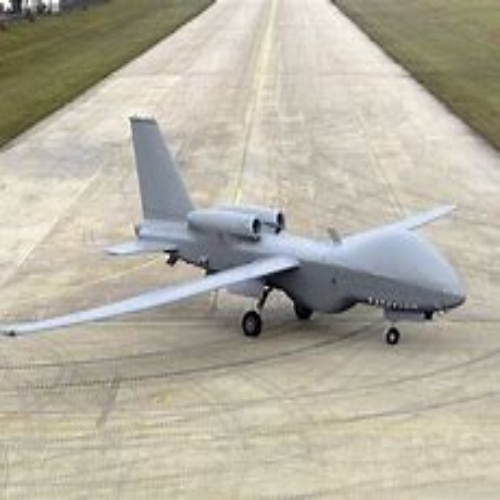uav325: (3, 116, 471, 344)
